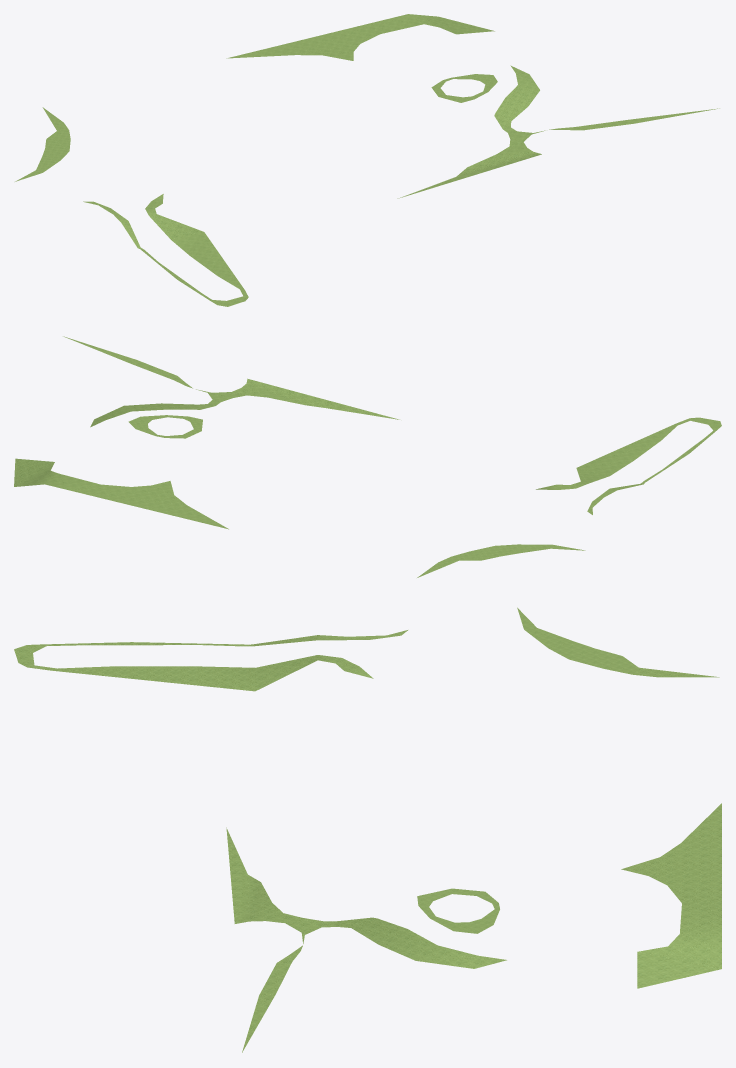
The model's file is kd_stage_135ded_4_124.glb.
The picture shows the model from 3 angles, top to bottom: view 1: azimuth 30°, elevation 25°; view 2: azimuth 150°, elevation 25°; view 3: azimuth 270°, elevation 25°; orthographic projection. The views are drawn at different scales.
Visible parts, largest first — view 1: kd_stage_135ded_4_124; view 2: kd_stage_135ded_4_124; view 3: kd_stage_135ded_4_124.
Part boxes in pixels (<box>): kd_stage_135ded_4_124: <box>15,14,719,306</box>; kd_stage_135ded_4_124: <box>14,336,721,577</box>; kd_stage_135ded_4_124: <box>14,607,721,1052</box>.
Size of the model in its own units: 16.65 by 0.431 by 11.4.
1 material, 1 textured.
